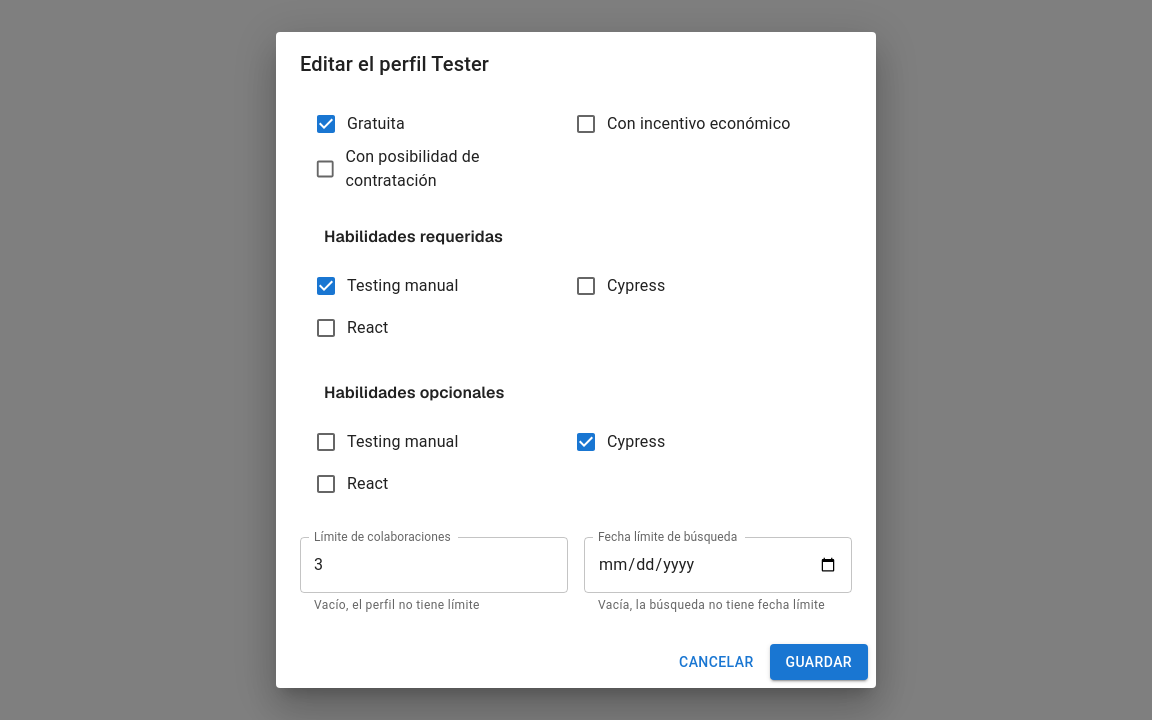
Test case: FormularioDePerfil al editar › el límite vacío viaja como null y la fecha como el final de ese día
(page scrolled)
Clear the number field labelled "Límite de colaboraciones": coordinates (434, 565) [300,537,568,593]
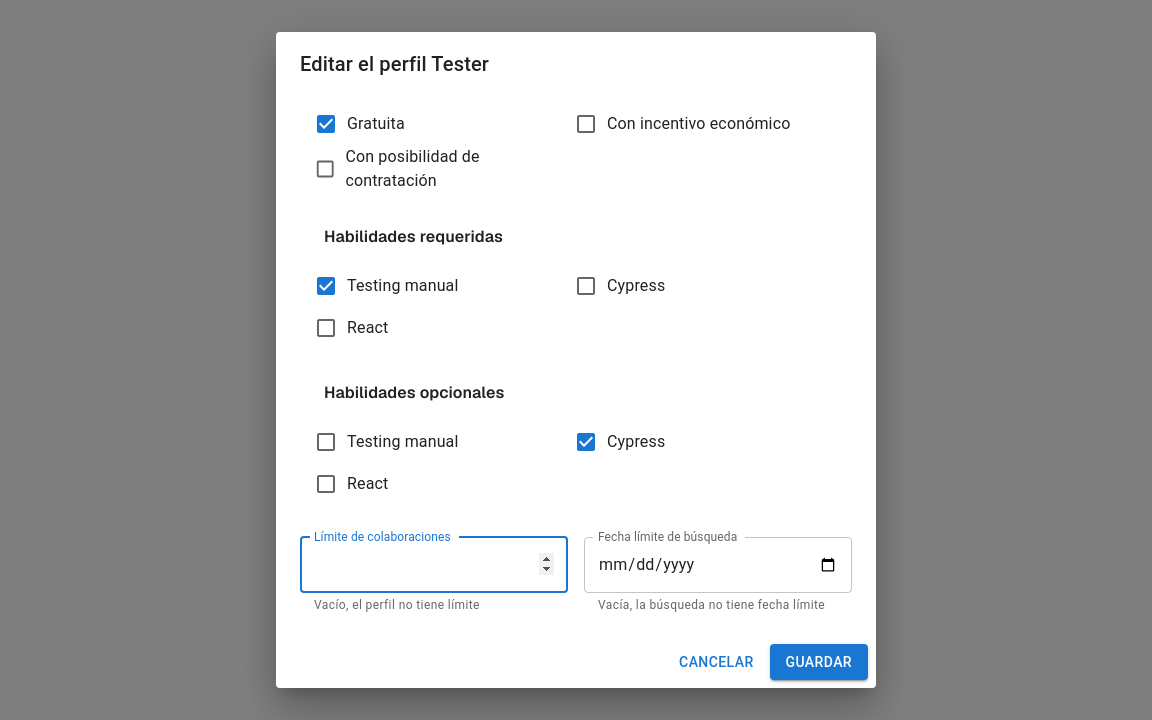
In the date field labelled "Fecha límite de búsqueda": coordinates (718, 565) [584,537,852,593], type "2099-12-31"
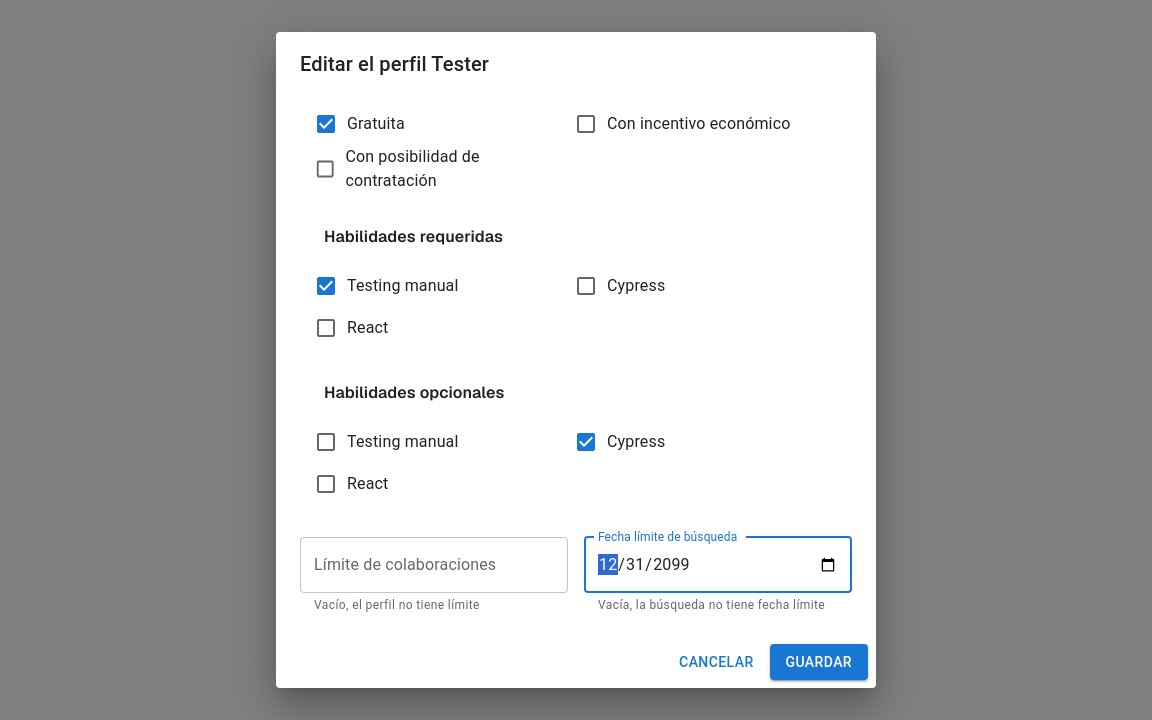
Click the button "Guardar": coordinates (819, 662) [770,644,868,680]
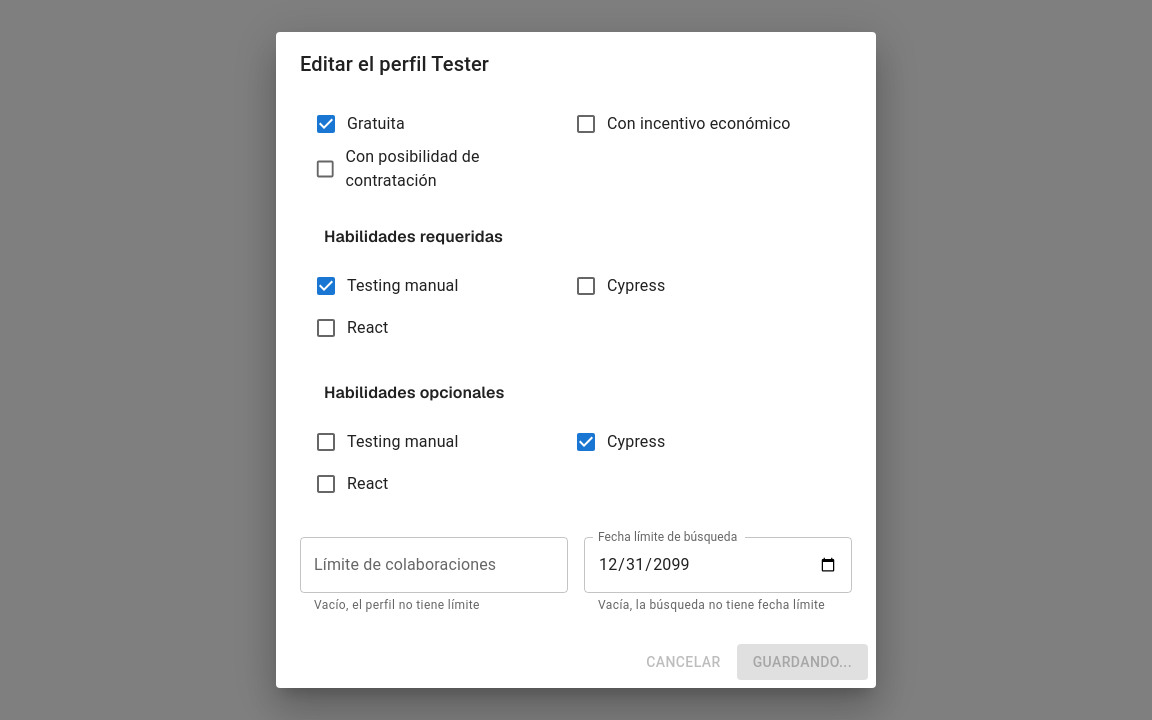
Expected: the button "Guardando..." is shown, [737,644,868,680]
